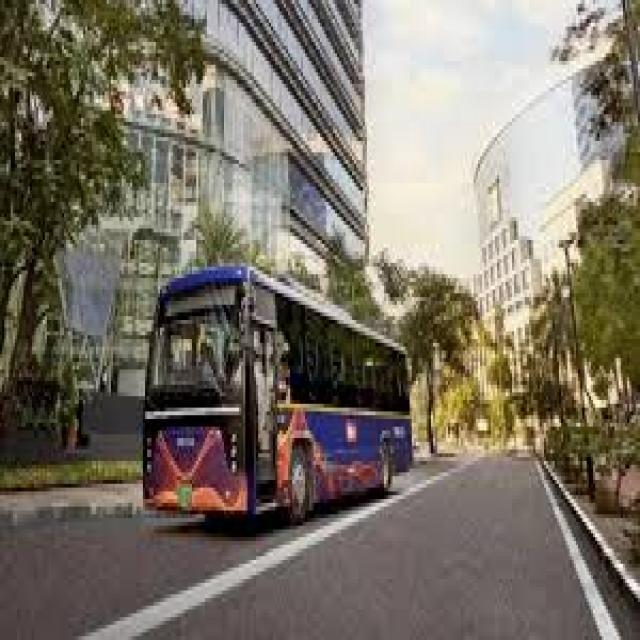Bus: (142, 292, 429, 515)
